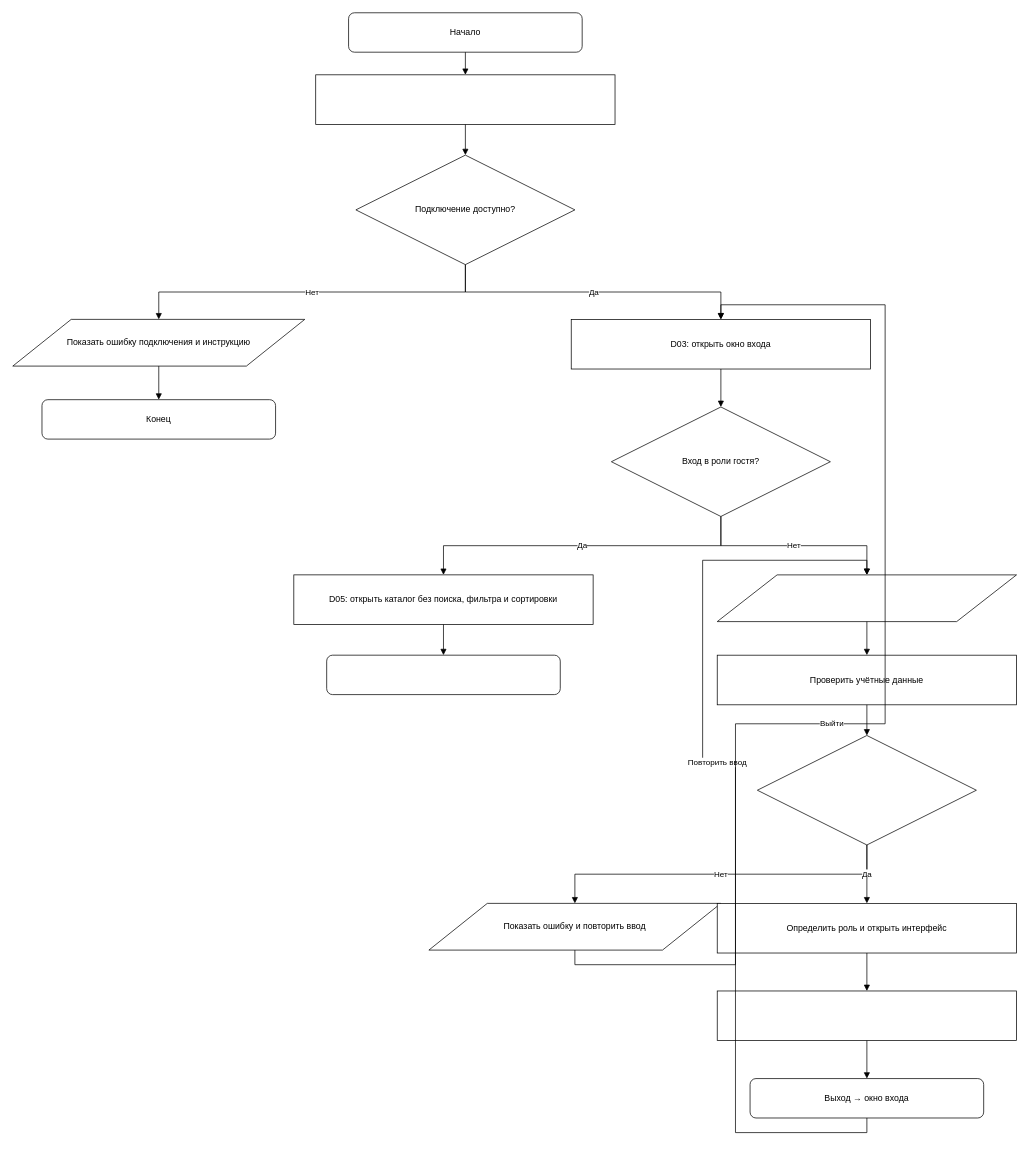
This 1029x1151 diagram has some shape labels left out. Here are the shapes that lost their labels. From the top down, the box of each, then its label:
(315, 74, 615, 124): D02: запуск приложения и подключение к БД
(716, 574, 1017, 622): Ввести логин и пароль
(326, 654, 560, 695): Конец гостевого сеанса
(757, 735, 976, 845): Данные верны?
(716, 990, 1017, 1041): D04-D11: навигация; каталог; поиск; управление товарами; сообщения
